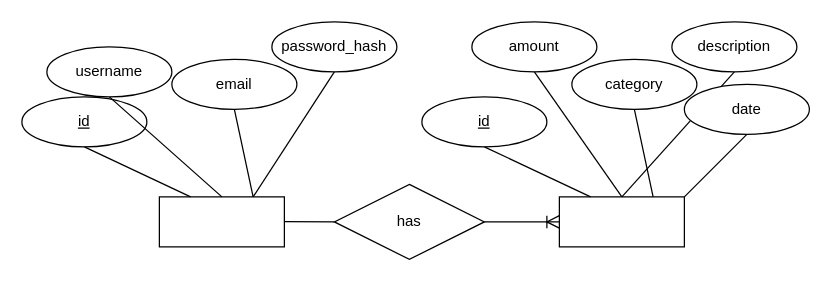
This 831x281 diagram has some shape labels left out. The shapes that lost their labels are listed below. From the top down, each one's centre as x and y in pixels, then its label:
At [221,221]: "User".
At [621,221]: "Expense".
